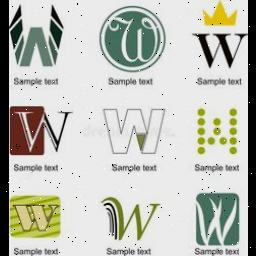s: (12, 76, 18, 86)
w: (98, 108, 168, 156), (99, 194, 161, 244), (12, 109, 76, 155), (193, 196, 243, 246), (190, 28, 248, 70)
